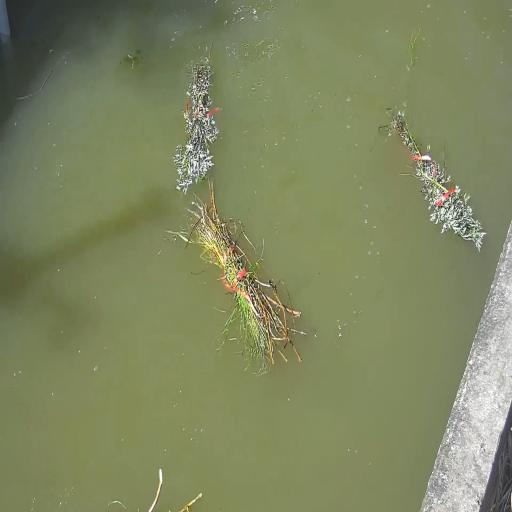twig: (171, 180, 301, 369), (386, 111, 486, 251), (222, 231, 300, 367), (173, 54, 219, 193)
